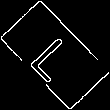L_NE: (26, 26, 84, 84)
